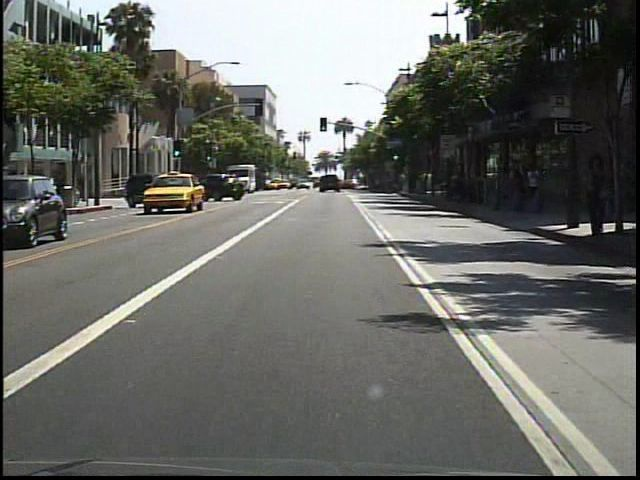person: (579, 152, 612, 243), (524, 163, 546, 215)
